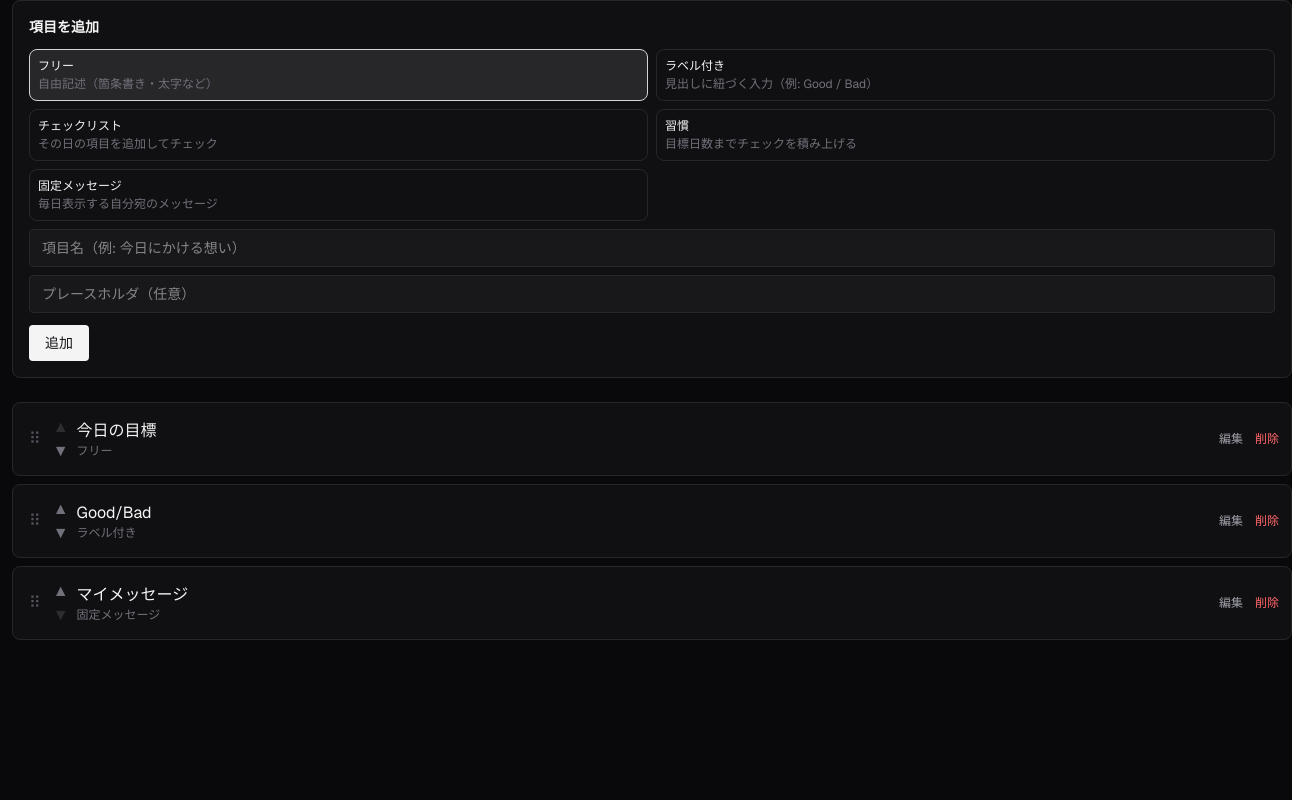
Test case: ComponentManager（追加） › 追加に成功したら「追加しました」を表示して再描画し、項目名を空にする
Type "メモ" into the field with placeholder "項目名（例: 今日にかける想い）". click: (652, 248)
box: [29,229,1275,267]
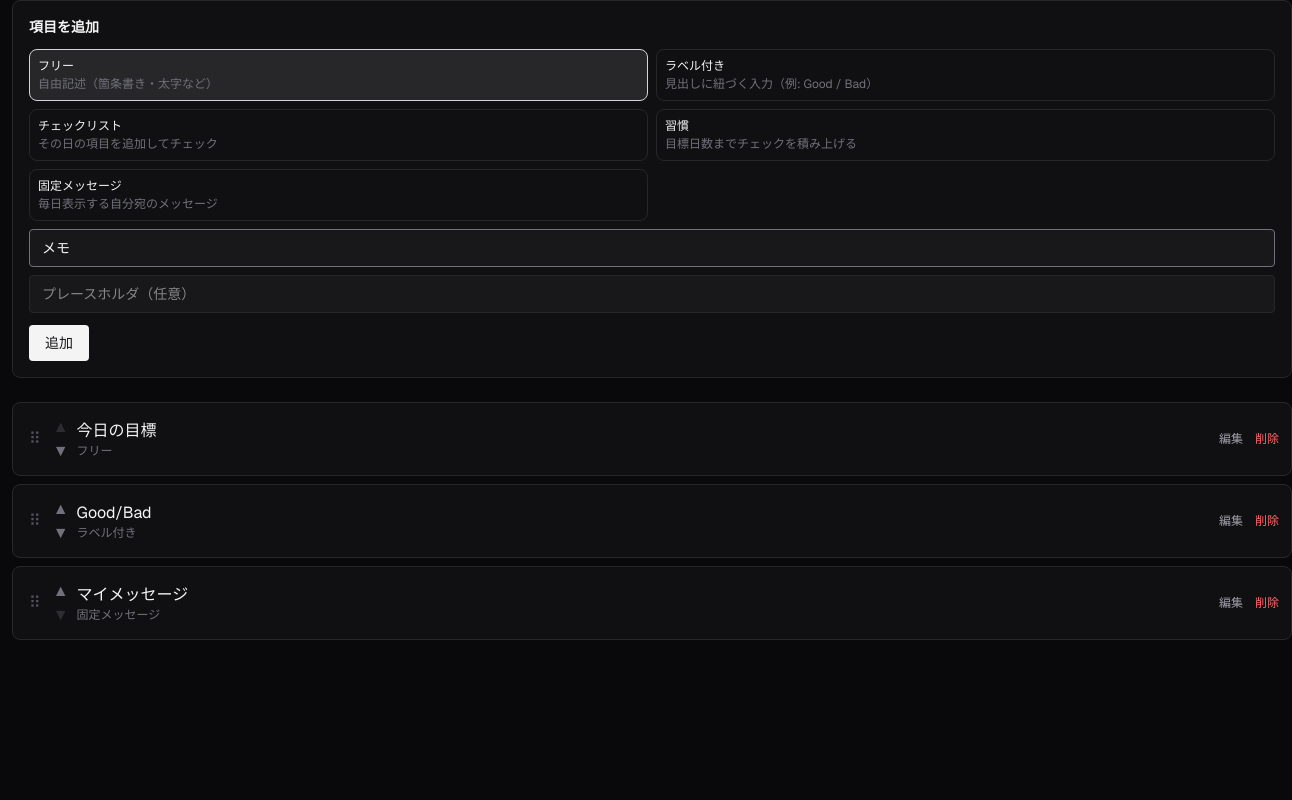
Click the button "追加". click: (59, 343)
box: [29,325,89,361]
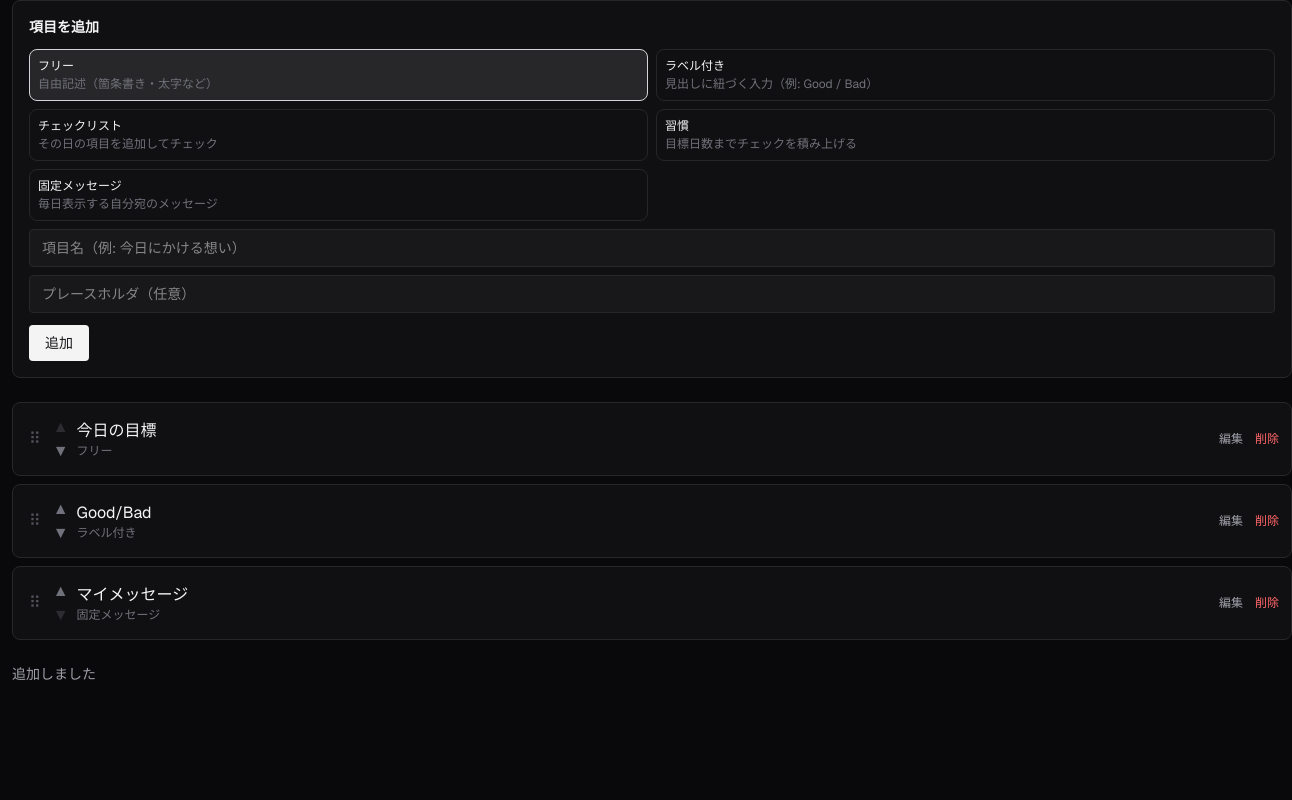
Check: the text "追加しました" is shown, box [12,665,96,683]
Check: the field with placeholder "項目名（例: 今日にかける想い）" is empty, box [29,229,1275,267]
